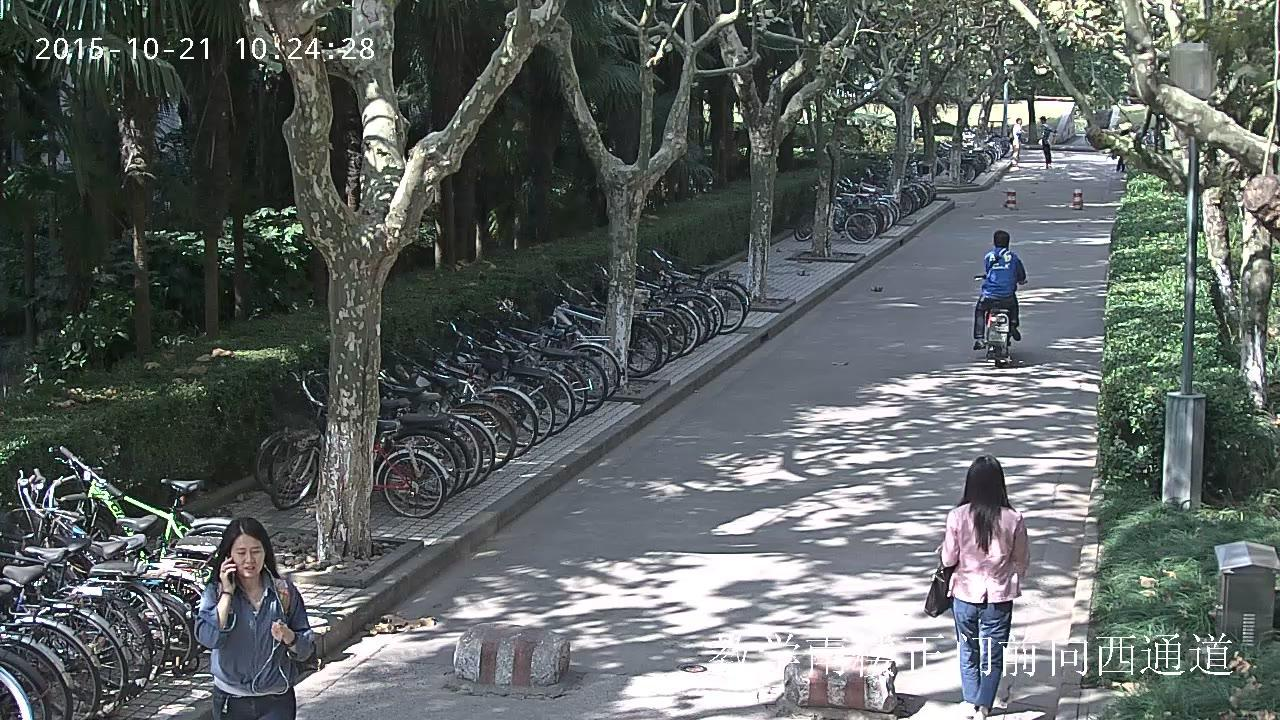person: (924, 455, 1027, 720), (194, 516, 313, 720), (973, 228, 1027, 367), (973, 229, 1026, 349), (1114, 120, 1133, 172), (1039, 116, 1051, 170), (1012, 117, 1023, 166)
